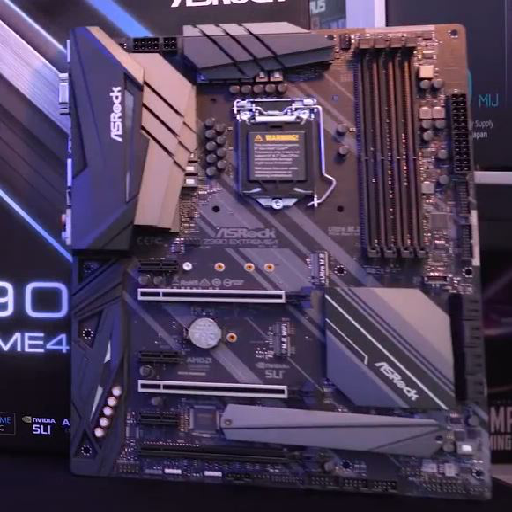CPU: (234, 98, 317, 210)
GPU: (137, 378, 317, 406), (134, 285, 314, 310)
MOTHERBOARD: (65, 23, 495, 501)
RAM: (355, 35, 429, 262)
SSD: (270, 320, 293, 358), (308, 250, 330, 289)
